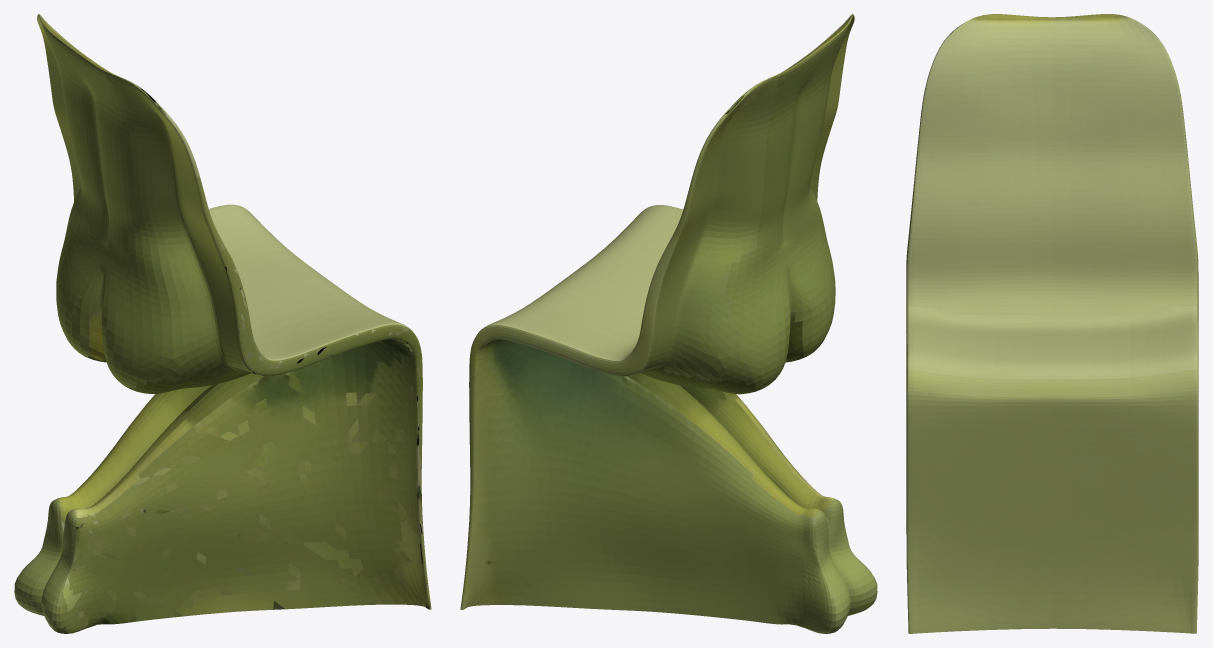
3 views of the same model, side by side, from view 1: azimuth 30°, elevation 25°; view 2: azimuth 150°, elevation 25°; view 3: azimuth 270°, elevation 25° (orthographic). The views are drawn at different scales.
Visible parts, largest first — view 1: Node; view 2: Node; view 3: Node.
Part boxes in pixels (bbox=[...]): Node: bbox=[14, 14, 431, 633]; Node: bbox=[460, 14, 877, 633]; Node: bbox=[906, 14, 1198, 633].
Bounding box in the file's own units: 0.4106 × 0.7 × 0.3696.
1 material, 1 textured.
